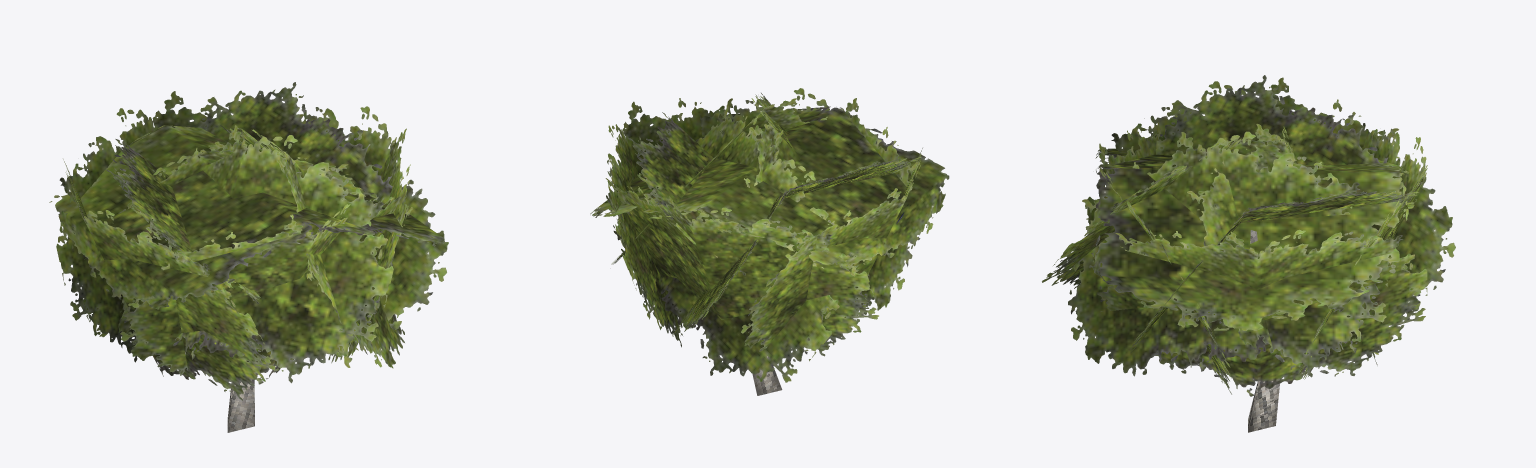
File: Blueberry Bush.fbx
The picture shows the model from 3 angles, left to right: view 1: azimuth 30°, elevation 25°; view 2: azimuth 150°, elevation 25°; view 3: azimuth 270°, elevation 25°; orthographic projection. The views are drawn at different scales.
Parts seen in each view (by area): view 1: Blueberry Bush; view 2: Blueberry Bush; view 3: Blueberry Bush.
Part boxes in pixels (x1=…): Blueberry Bush: x1=49, y1=82, x2=448, y2=432; Blueberry Bush: x1=590, y1=88, x2=949, y2=395; Blueberry Bush: x1=1042, y1=75, x2=1455, y2=432.
Bounding box in the file's own units: 1.26 × 0.9776 × 1.34.
2 materials, 2 textured.
